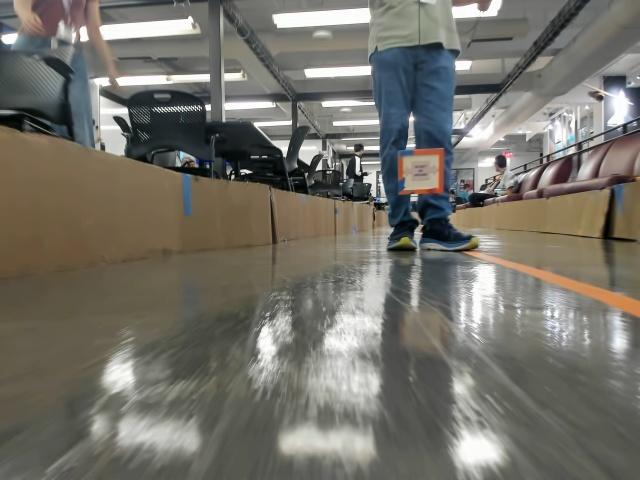Do Not Go Around: (403, 159, 436, 180)
